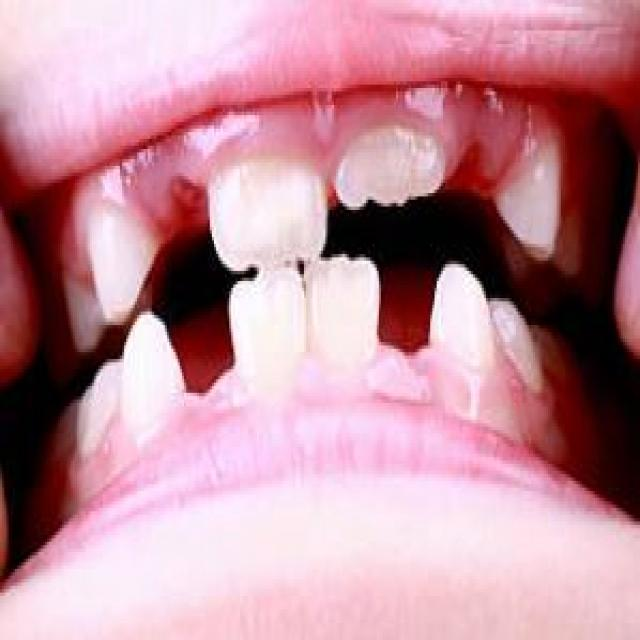hypodontia: (43, 254, 608, 525), (51, 98, 616, 322)
